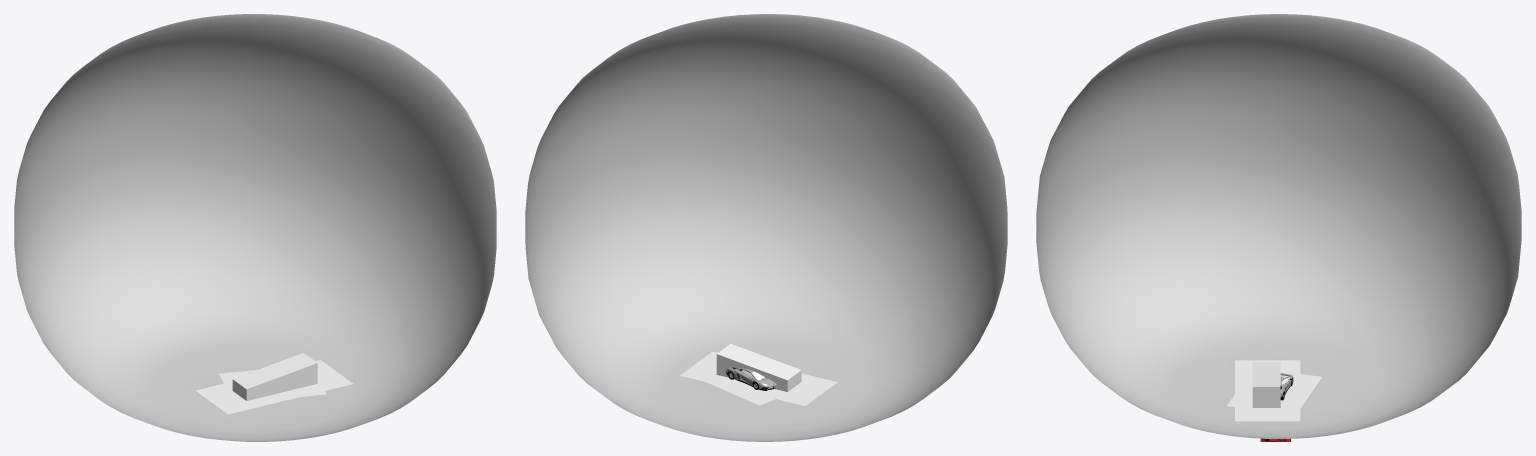
The model's file is Ferris_Car_Configurator.gltf.
The picture shows the model from 3 angles, left to right: view 1: azimuth 30°, elevation 25°; view 2: azimuth 150°, elevation 25°; view 3: azimuth 270°, elevation 25°; orthographic projection.
Visible parts, largest first — view 1: sphere_studio, Cube, sphere_studio.001, Plane.007; view 2: sphere_studio, Cube, sphere_studio.001, Plane.007, outside_low; view 3: sphere_studio, Plane.007, sphere_studio.001, Cube.
Boxes of the visible parts, x1,y1,x2,y2 form: sphere_studio: [14, 14, 496, 441]; Cube: [232, 353, 317, 400]; sphere_studio.001: [195, 360, 352, 414]; Plane.007: [219, 370, 326, 403]; sphere_studio: [525, 14, 1007, 441]; Cube: [716, 343, 801, 391]; sphere_studio.001: [680, 351, 837, 405]; Plane.007: [695, 368, 811, 405]; outside_low: [726, 367, 776, 390]; sphere_studio: [1036, 14, 1521, 438]; Plane.007: [1227, 369, 1321, 414]; sphere_studio.001: [1235, 360, 1300, 421]; Cube: [1252, 361, 1280, 407].
Size of the model in its own units: 6.17 by 5.11 by 6.25.
15 materials, 6 textured.
